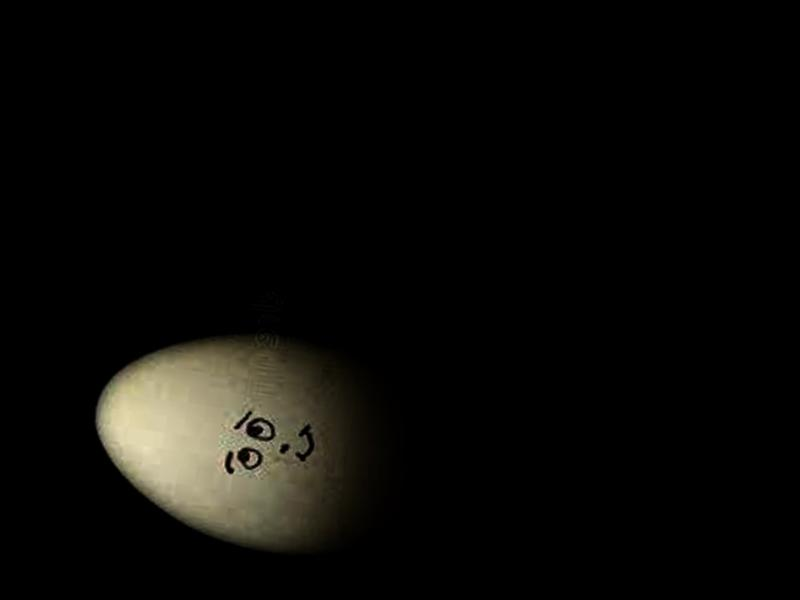Eggs: (77, 311, 426, 569)
